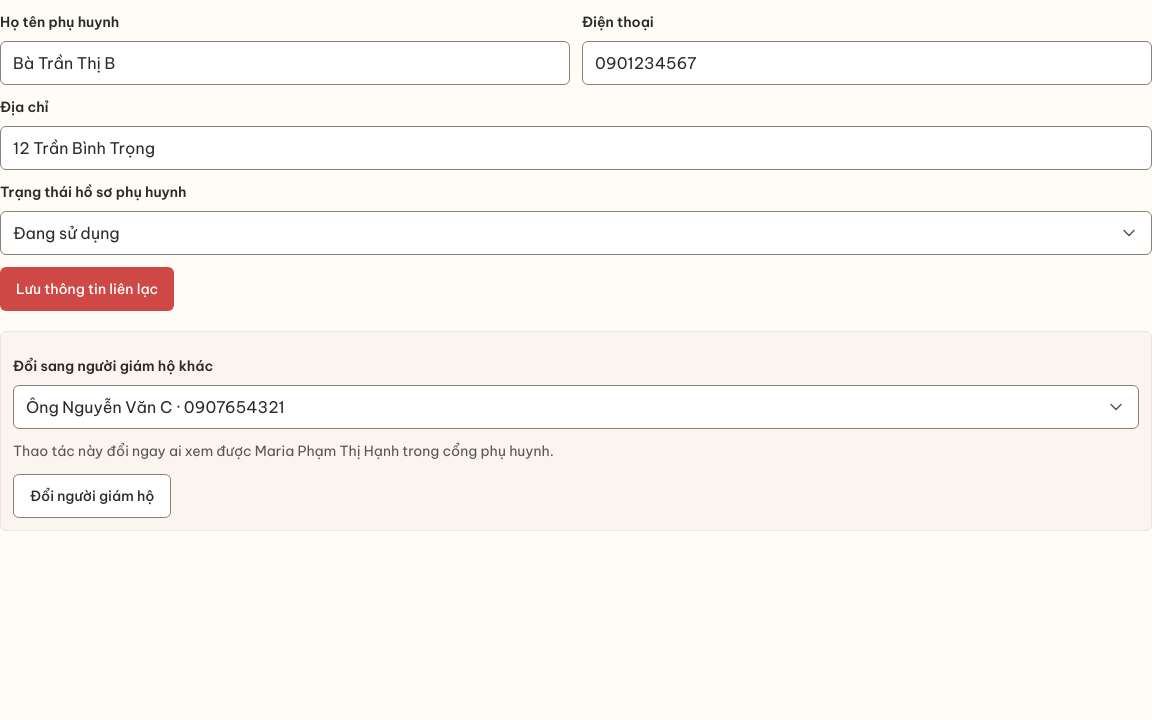
Test: 🔴 AC-F12-02 · đổi người giám hộ là thao tác ĐỔI QUYỀN ĐỌC › bấm đổi mở hộp xác nhận nêu đủ BA cái tên, CHƯA gửi gì
The width and height of the screenshot is (1152, 720).
Click the button "Đổi người giám hộ": (92, 496) [13,474,171,518]
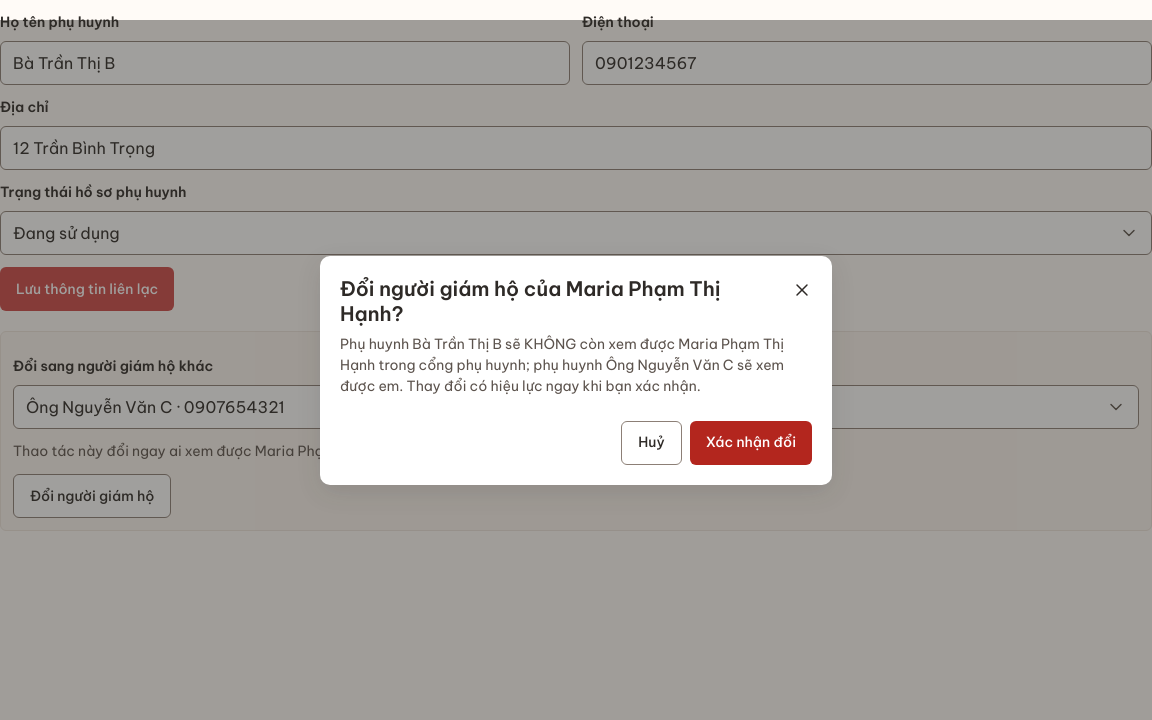
Expected: the dialog shows "Maria Phạm Thị Hạnh", [340,276,721,326]
Expected: the dialog shows "Bà Trần Thị B", [340,334,784,394]
Expected: the dialog shows "Ông Nguyễn Văn C", [340,334,784,394]
